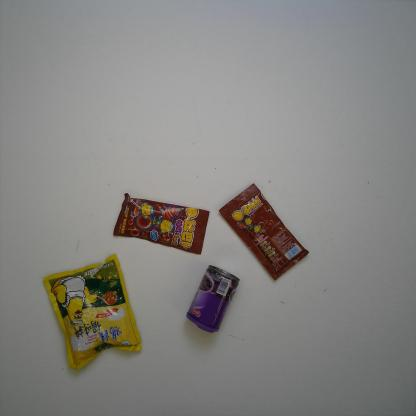Candy: (217, 182, 310, 282), (112, 192, 211, 256)
Canned Food: (184, 263, 240, 334)
Seasoner: (42, 252, 142, 372)
